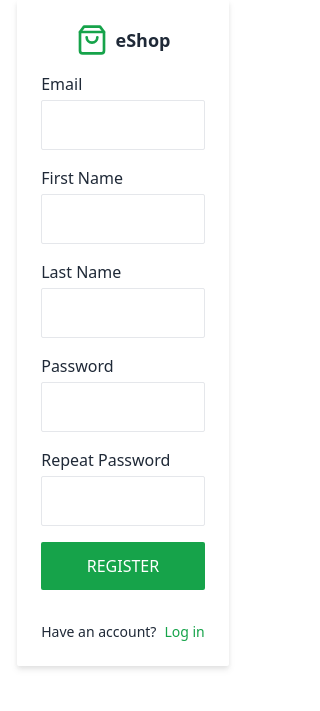
Test: RegisterForm component › should show error message on blur if passwords do not match
The width and height of the screenshot is (320, 711).
Type "password" into the password field labelled "Password" at [123, 407], box [41,382,205,432]
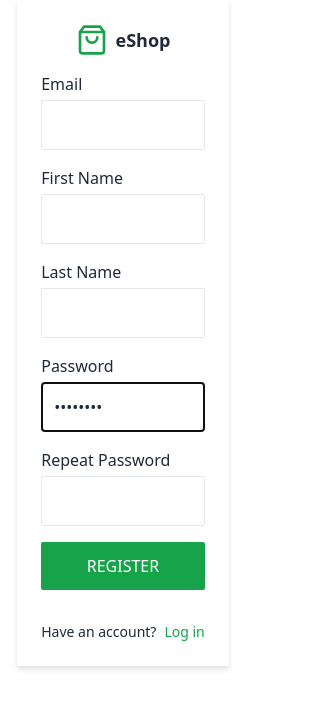
Type "password2" into the password field labelled "Repeat Password" at [123, 501], box [41,476,205,526]
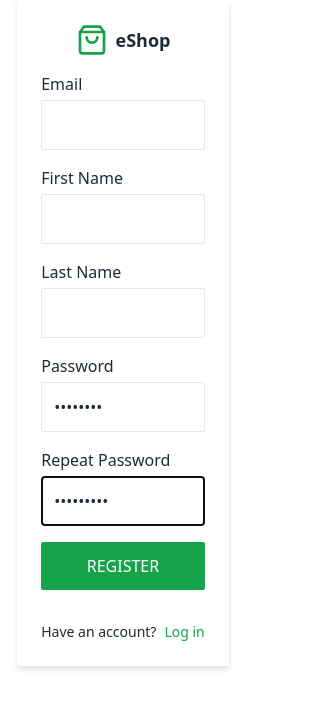
Press Tab
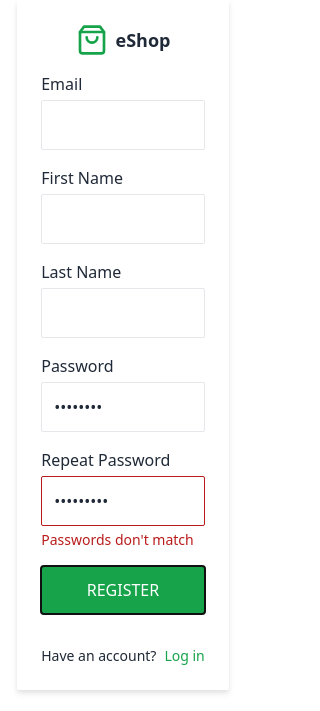
Now the text "Passwords don't match" is shown, box [41,530,205,550]
